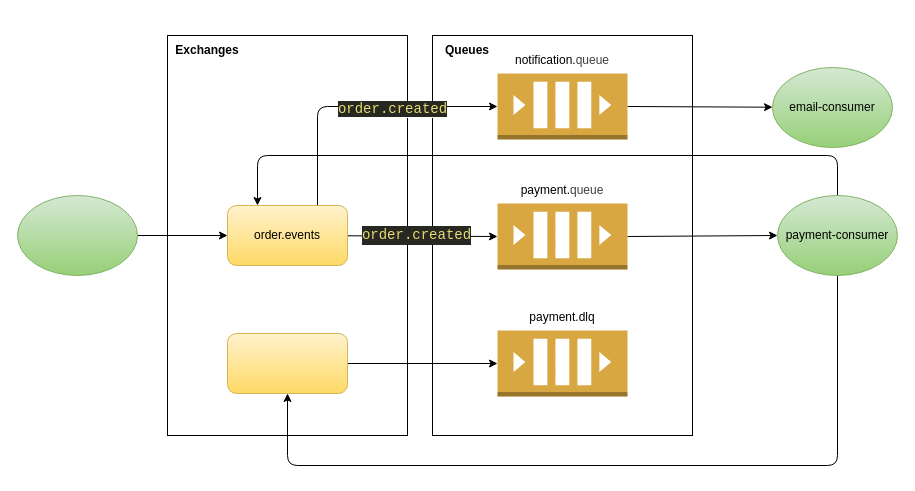
The diagram is 915 pixels wide and 491 high, and some of its shapes have lost their labels. Here are the shapes that lost their labels. From the top down, the box of each, then its label:
(16, 194, 138, 276): order-producer
(226, 332, 348, 394): order.events.dlx
